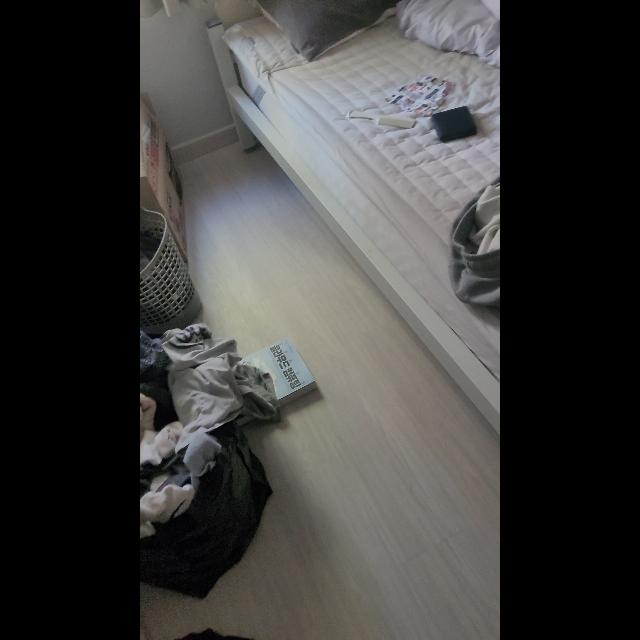COMB: (348, 110, 416, 128)
Glasses cleaning cloth: (386, 75, 454, 117)
WALLET: (432, 105, 478, 143)
